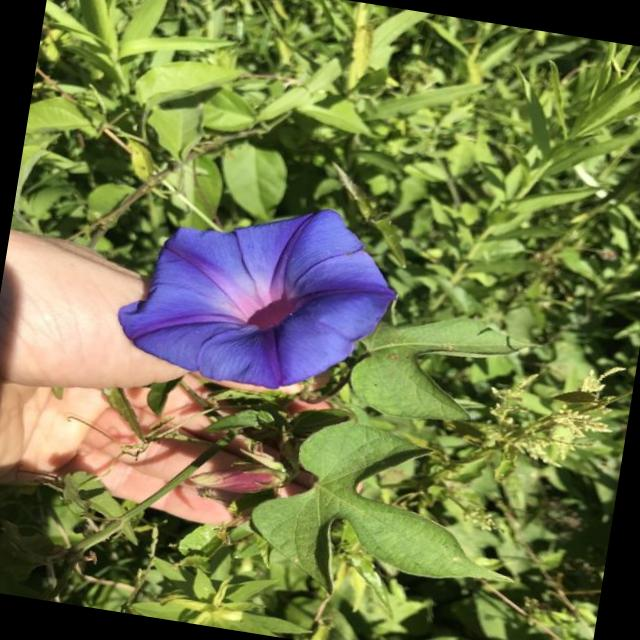ipomoea: (105, 177, 411, 410)
